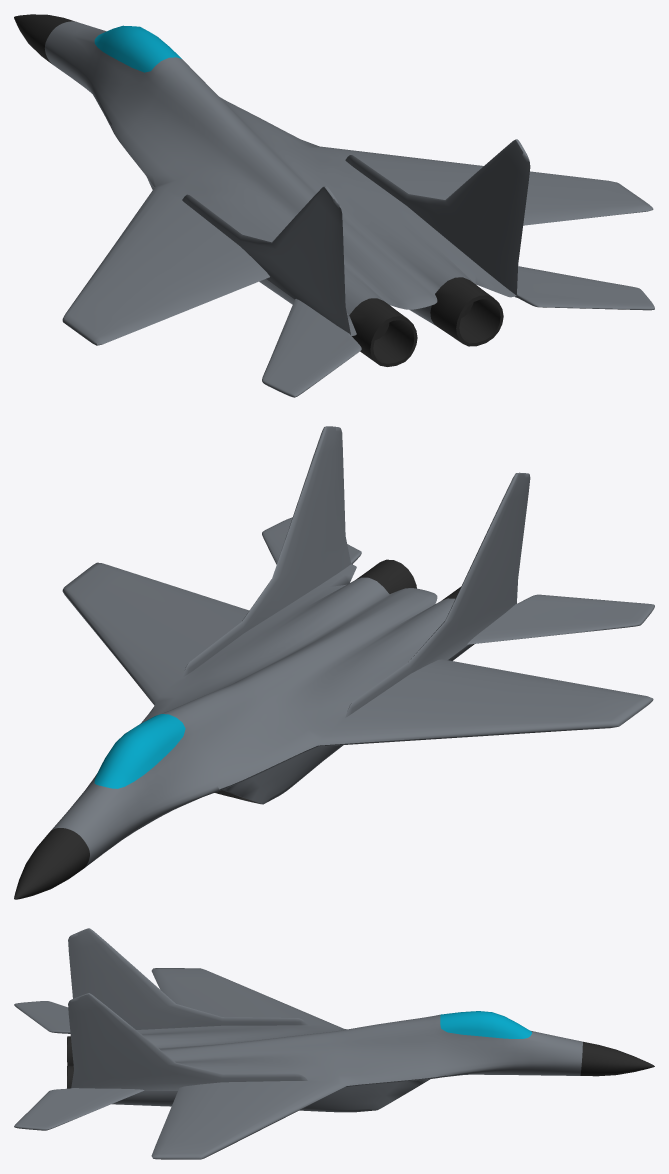
3 views of the same model, one above another, from view 1: azimuth 30°, elevation 25°; view 2: azimuth 150°, elevation 25°; view 3: azimuth 270°, elevation 25° (orthographic). The views are drawn at different scales.
Parts seen in each view (by area): view 1: body, tail-wing; view 2: body, tail-wing; view 3: body, tail-wing.
Boxes of the visible parts, x1,y1,x2,y2 form: body: [14, 14, 653, 366]; tail-wing: [262, 266, 654, 397]; body: [14, 426, 653, 899]; tail-wing: [262, 517, 654, 644]; body: [67, 928, 654, 1159]; tail-wing: [14, 1001, 144, 1130].
Size of the model in its own units: 11.36 by 3.82 by 16.24.
